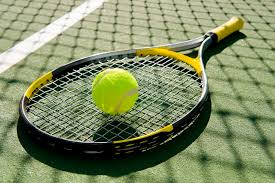tennis_ball: (91, 67, 139, 116)
